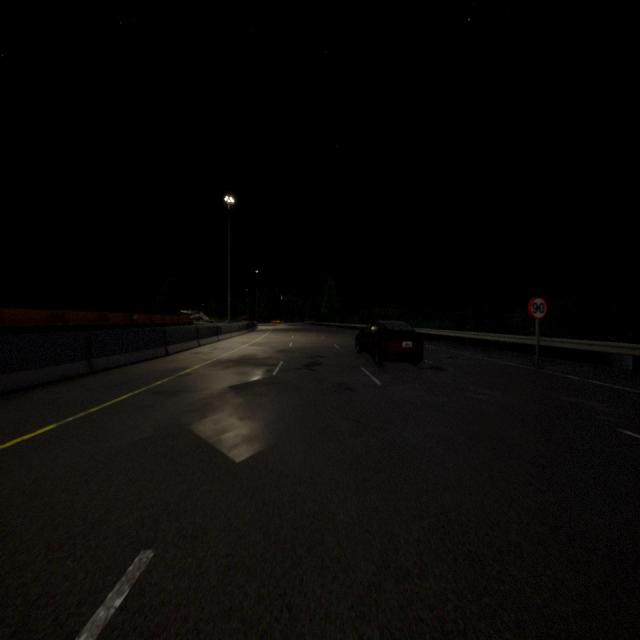Traffic_Signs: (527, 298, 547, 319)
Vehicle: (355, 321, 423, 365)
